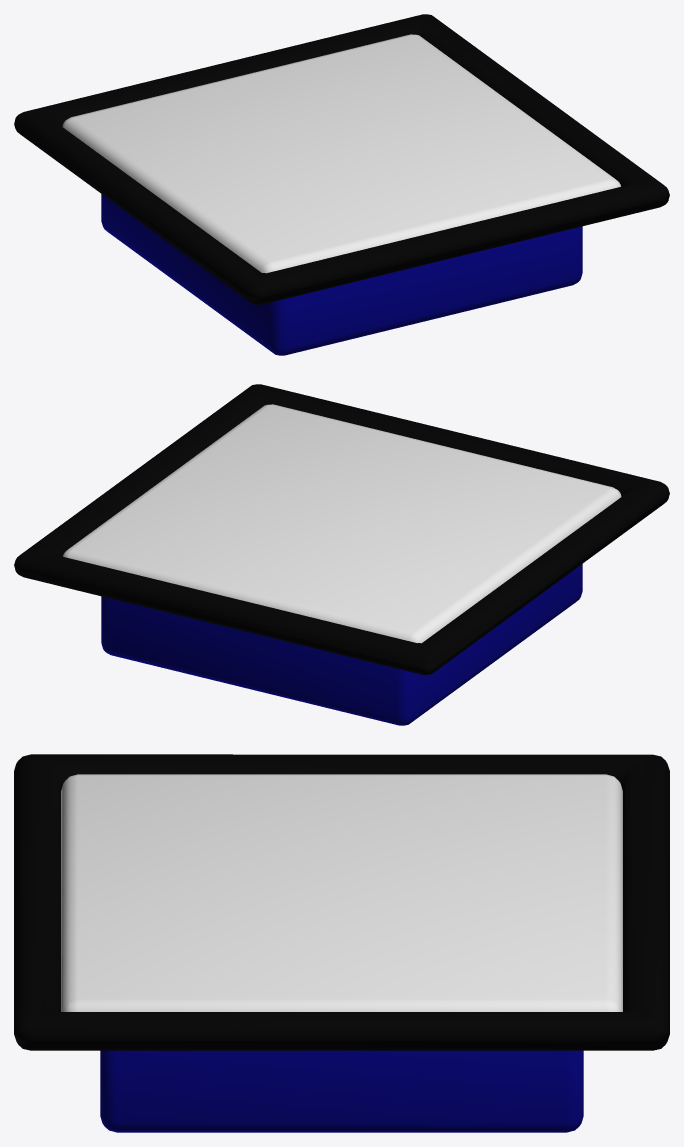
File: CenterTable.glb
The picture shows the model from 3 angles, top to bottom: view 1: azimuth 30°, elevation 25°; view 2: azimuth 150°, elevation 25°; view 3: azimuth 270°, elevation 25°; orthographic projection. The views are drawn at different scales.
Visible parts, largest first — view 1: CenterTable; view 2: CenterTable; view 3: CenterTable.
Boxes of the visible parts, x1,y1,x2,y2 form: CenterTable: [14, 14, 669, 355]; CenterTable: [14, 384, 669, 725]; CenterTable: [14, 754, 669, 1132].
Size of the model in its own units: 4 by 0.9997 by 4.
